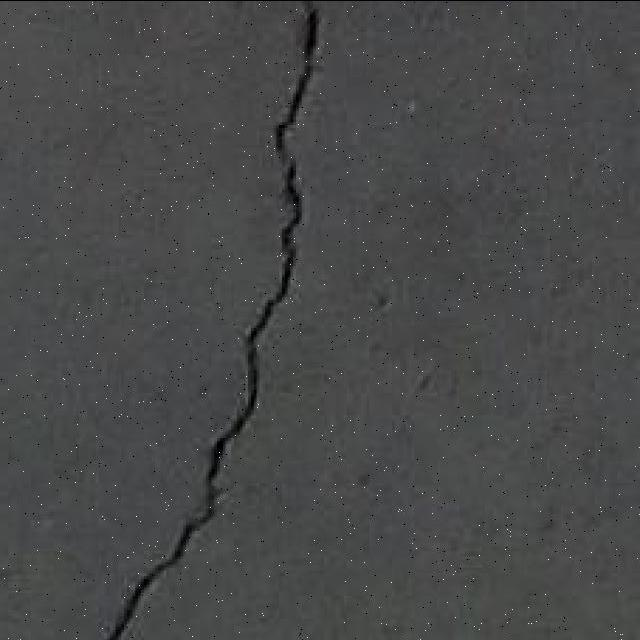crack: (266, 6, 637, 640), (104, 7, 320, 637), (101, 554, 179, 638)
